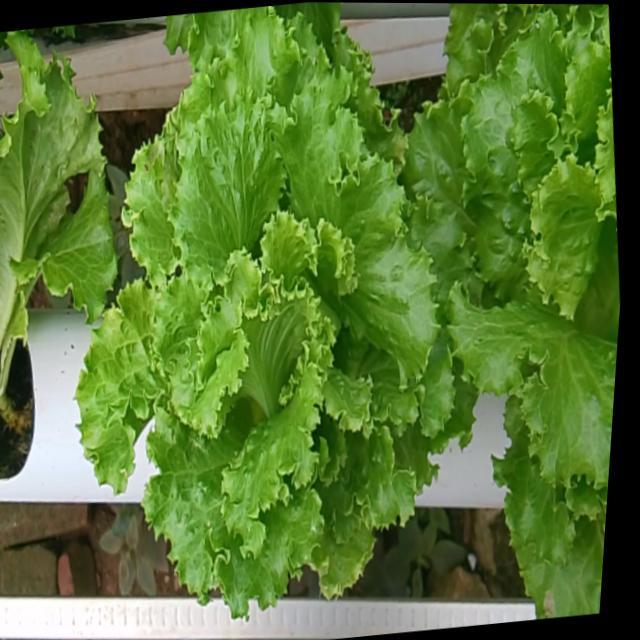Mature: (69, 30, 446, 637), (399, 26, 620, 516)
